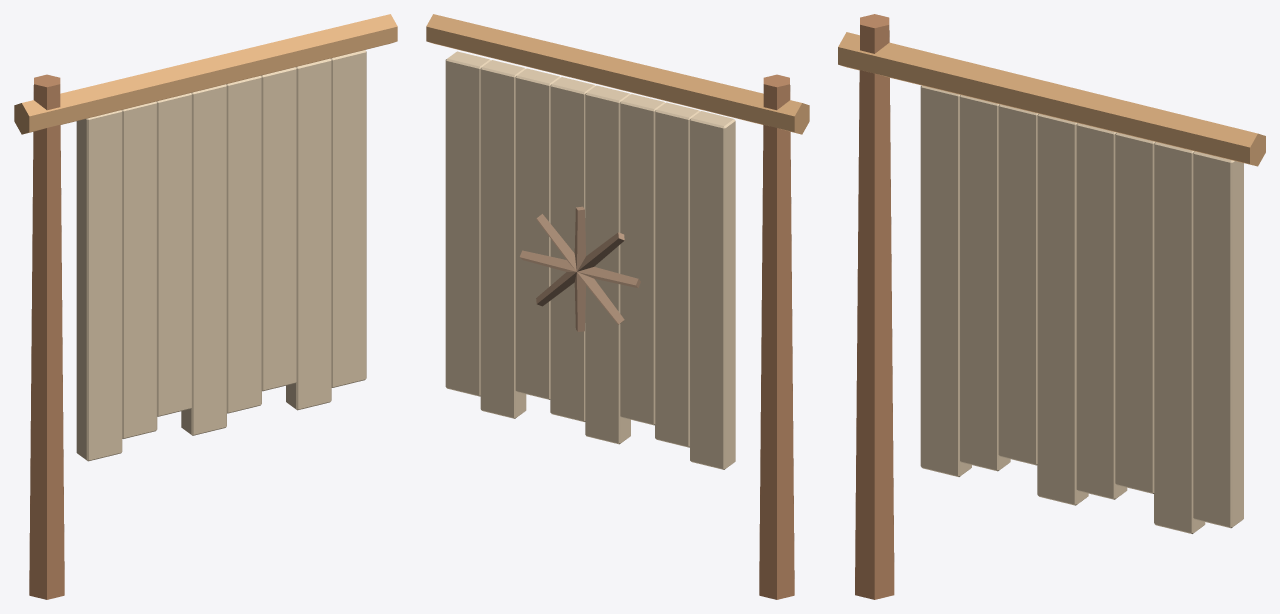
The model's file is excavation_standard.glb.
3 renders of one model, left to right at view 1: azimuth 30°, elevation 25°; view 2: azimuth 150°, elevation 25°; view 3: azimuth 330°, elevation 25°, orthographic. The views are drawn at different scales.
Bounding box in the file's own units: 0.73 × 0.965 × 0.0923.
